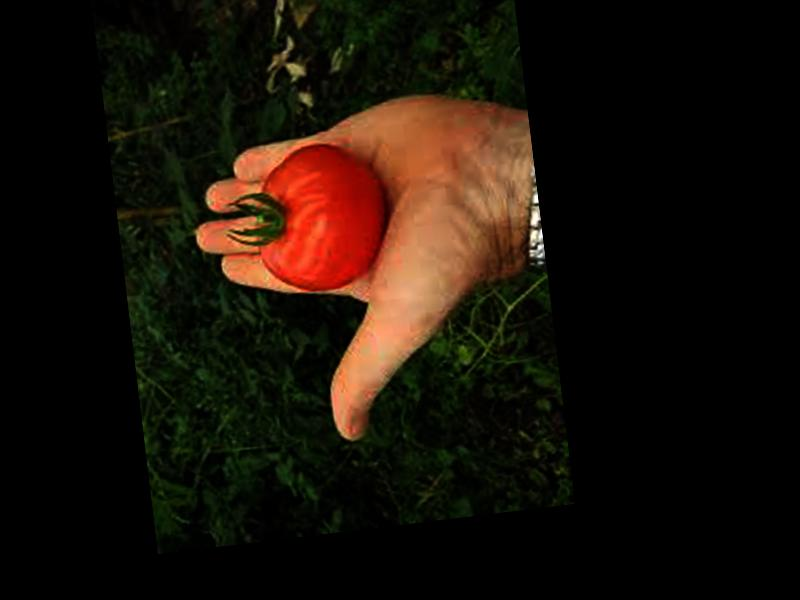Tomato: (249, 135, 393, 298)
